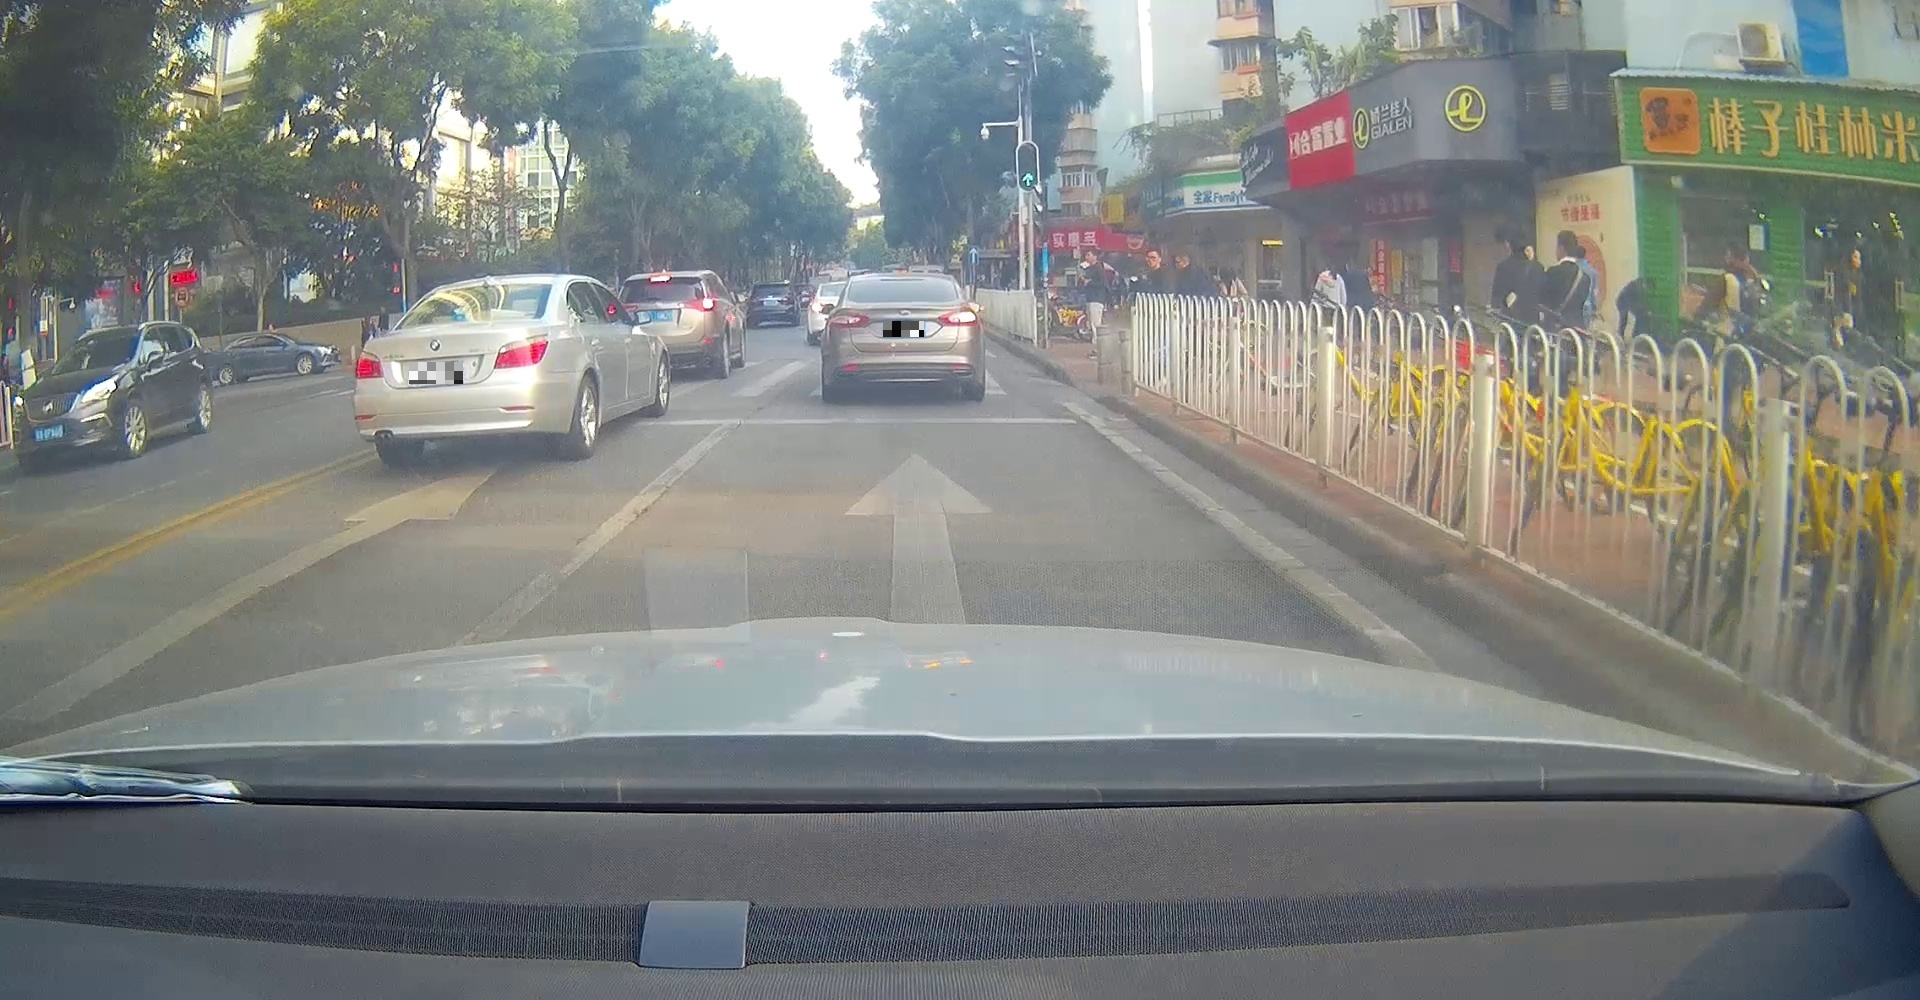L_light: (356, 352, 383, 379), (827, 313, 869, 327)
R_light: (491, 332, 549, 371), (937, 308, 977, 327)
T_light: (890, 280, 914, 286), (469, 289, 498, 292)
day-no: (352, 275, 556, 466)
day-right: (825, 273, 977, 400)
plate_1: (409, 362, 463, 385)
plate_2: (883, 321, 924, 338)
